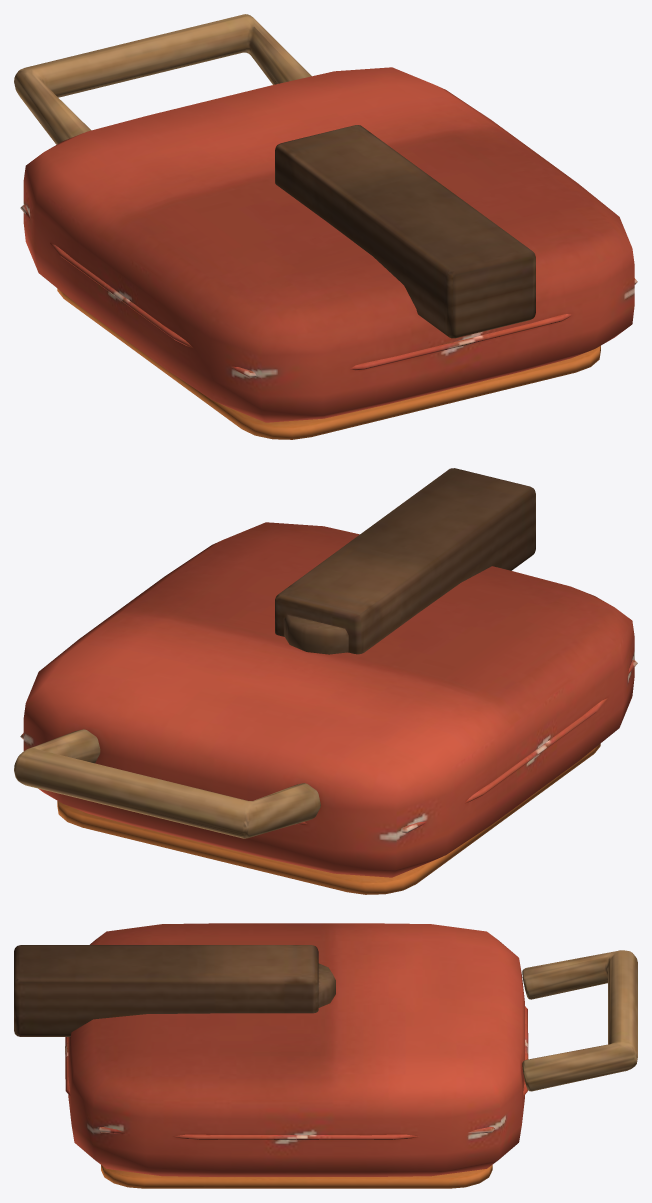
File: giant_heat_press_lid.glb
3 renders of one model, top to bottom at view 1: azimuth 30°, elevation 25°; view 2: azimuth 150°, elevation 25°; view 3: azimuth 270°, elevation 25°, orthographic. The views are drawn at different scales.
Parts seen in each view (by area): view 1: prop_giant_heat_press_lid_felt, prop_giant_heat_press_lid_wood, prop_giant_heat_press_lid_felt_heat; view 2: prop_giant_heat_press_lid_felt, prop_giant_heat_press_lid_wood, prop_giant_heat_press_lid_felt_heat; view 3: prop_giant_heat_press_lid_felt, prop_giant_heat_press_lid_wood, prop_giant_heat_press_lid_felt_heat.
Boxes of the visible parts, box(x1,y1,x2,y2) form: prop_giant_heat_press_lid_felt: box(20, 67, 637, 422); prop_giant_heat_press_lid_wood: box(14, 14, 535, 338); prop_giant_heat_press_lid_felt_heat: box(57, 288, 600, 439); prop_giant_heat_press_lid_felt: box(20, 522, 637, 877); prop_giant_heat_press_lid_wood: box(14, 468, 535, 838); prop_giant_heat_press_lid_felt_heat: box(57, 743, 600, 894); prop_giant_heat_press_lid_felt: box(65, 923, 528, 1176); prop_giant_heat_press_lid_wood: box(14, 945, 637, 1091); prop_giant_heat_press_lid_felt_heat: box(101, 1165, 492, 1188).
Bounding box in the file's own units: 1.35 × 0.546 × 2.01.
Materials: 3 (3 with a texture image).
